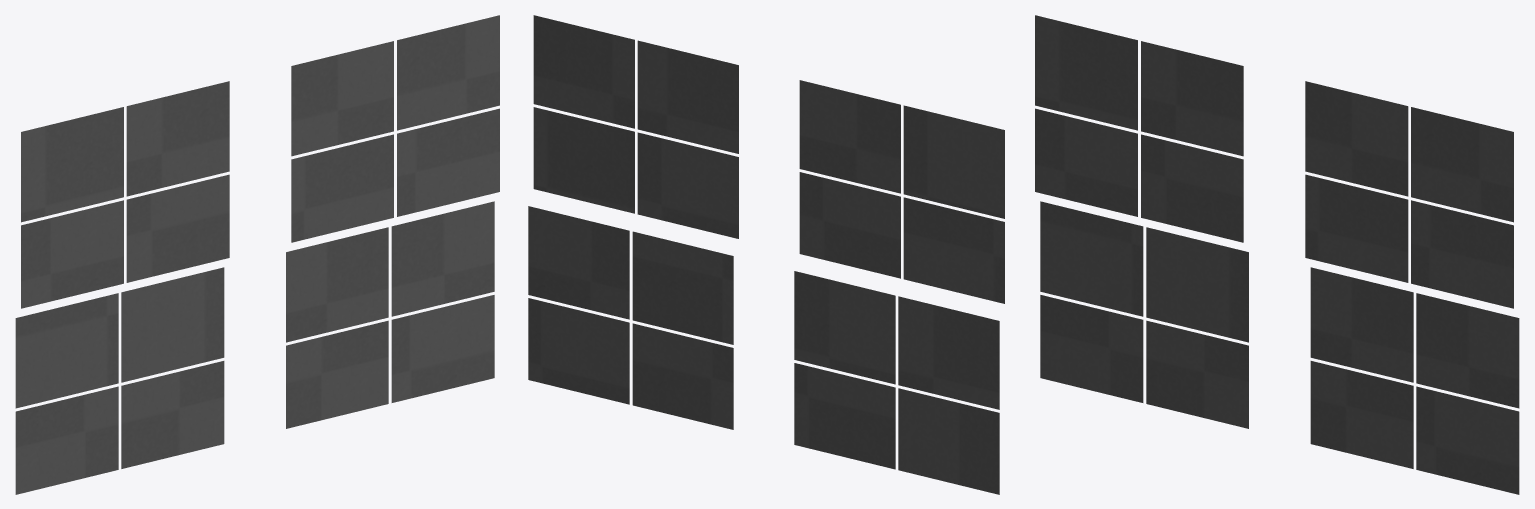
File: SM_House_WindowGlass_C3.glb
3 renders of one model, left to right at view 1: azimuth 30°, elevation 25°; view 2: azimuth 150°, elevation 25°; view 3: azimuth 330°, elevation 25°, orthographic.
Parts seen in each view (by area): view 1: SM_House_WindowGlass_C3; view 2: SM_House_WindowGlass_C3; view 3: SM_House_WindowGlass_C3.
Part boxes in pixels (x1,y1,x2,y2): SM_House_WindowGlass_C3: (15,15,499,494); SM_House_WindowGlass_C3: (528,15,1004,494); SM_House_WindowGlass_C3: (1035,15,1519,494).
Bounding box in the file's own units: 175 × 128 × 4.4.
Materials: 1 (1 with a texture image).
